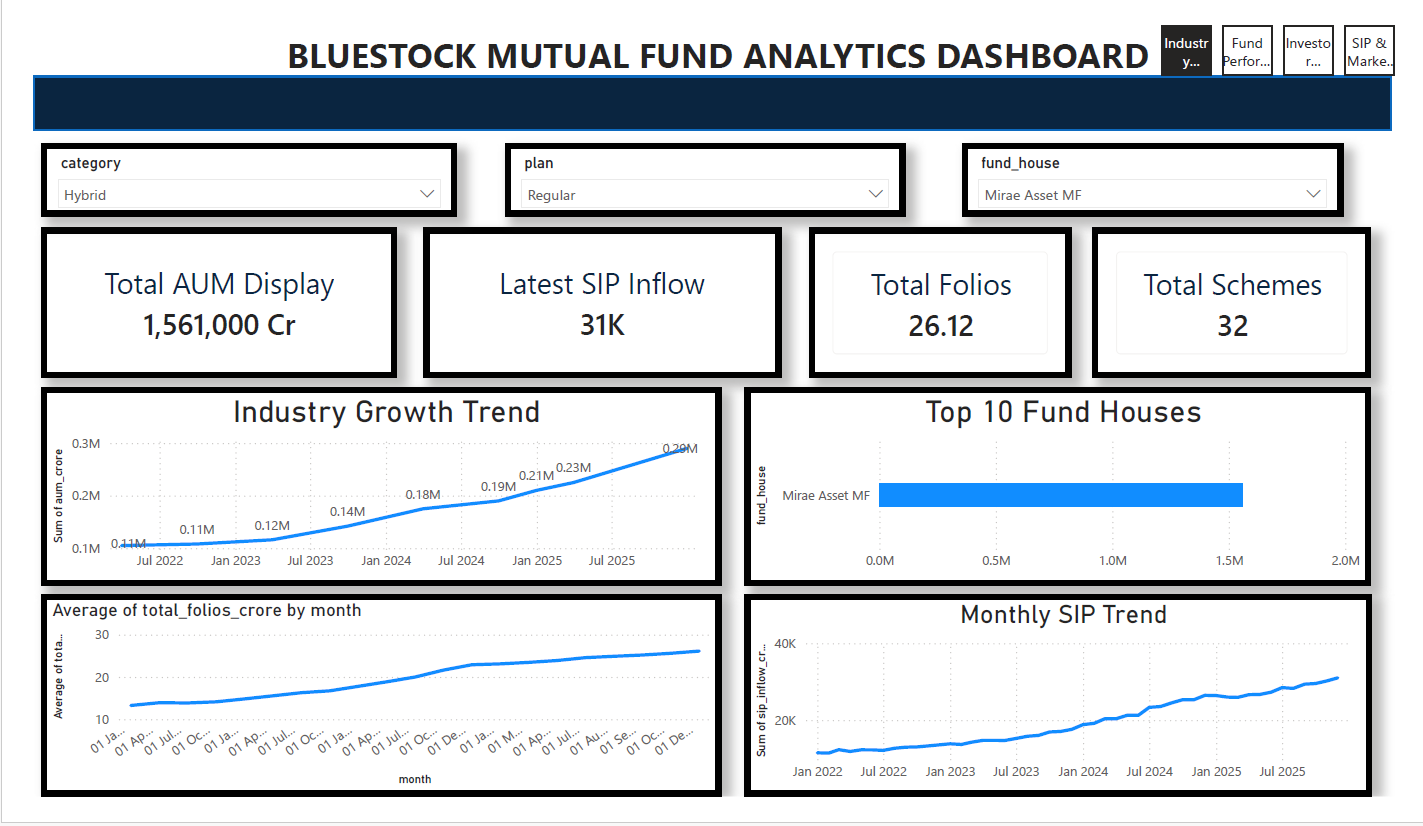

This screenshot's page, from the dashboard's own definition file:
{"tool":"powerbi","page":{"name":"Industry Overview","canvas":[1280,720],"ordinal":0},"visuals":[{"type":"textbox","box":[10,0,1270,72],"z":0},{"type":"shape","box":[4.7,46.5,1269.8,51.2],"z":1000},{"type":"cardVisual","fields":{"Data":["03_aum_by_fund_house.Total AUM Display"]},"box":[12.5,188.8,332.5,140],"z":2000},{"type":"cardVisual","fields":{"Data":["03_aum_by_fund_house.Latest SIP Inflow"]},"box":[370,188.8,333.8,140],"z":3000},{"type":"cardVisual","fields":{"Data":["03_aum_by_fund_house.Total Folios"]},"box":[730,188.8,245,140],"z":4000},{"type":"cardVisual","fields":{"Data":["03_aum_by_fund_house.Total Schemes"]},"box":[995,188.8,260,140],"z":5000},{"type":"lineChart","title":"Industry Growth Trend","fields":{"Y":["Sum(03_aum_by_fund_house.aum_crore)"],"Category":["03_aum_by_fund_house.date.Variation.Date Hierarchy.Year","03_aum_by_fund_house.date.Variation.Date Hierarchy.Quarter","03_aum_by_fund_house.date.Variation.Date Hierarchy.Month","03_aum_by_fund_house.date.Variation.Date Hierarchy.Day"]},"box":[12.5,337.5,635,185],"z":6000},{"type":"clusteredBarChart","title":"Top 10 Fund Houses","fields":{"Category":["03_aum_by_fund_house.fund_house"],"Y":["Sum(03_aum_by_fund_house.aum_crore)"]},"box":[670,337.5,585,185],"z":7000},{"type":"lineChart","title":"Monthly SIP Trend","fields":{"Y":["Sum(04_monthly_sip_inflows.sip_inflow_crore)"],"Category":["04_monthly_sip_inflows.month"]},"box":[670,531.2,586.2,188.8],"z":8000},{"type":"lineChart","fields":{"Y":["Avg(06_industry_folio_count.total_folios_crore)"],"Category":["06_industry_folio_count.month"]},"box":[12.5,531.2,635,188.8],"z":9000},{"type":"slicer","fields":{"Values":["03_aum_by_fund_house.fund_house"]},"box":[872.5,110,356.2,67.5],"z":10000},{"type":"slicer","fields":{"Values":["fund_scorecard.plan"]},"box":[446.2,110,373.8,67.5],"z":11000},{"type":"slicer","fields":{"Values":["05_category_inflows.category"]},"box":[12.5,110,388.8,67.5],"z":12000},{"type":"pageNavigator","box":[1058.6,0,221.4,47.1],"z":12001}]}

Visuals, with their boxes in screenshot pixels (x1, y1, x2, y2):
textbox: x1=44, y1=26, x2=1387, y2=102
shape: x1=38, y1=75, x2=1381, y2=129
cardVisual - 03_aum_by_fund_house.Total AUM Display: x1=47, y1=226, x2=398, y2=374
cardVisual - 03_aum_by_fund_house.Latest SIP Inflow: x1=425, y1=226, x2=778, y2=374
cardVisual - 03_aum_by_fund_house.Total Folios: x1=805, y1=226, x2=1064, y2=374
cardVisual - 03_aum_by_fund_house.Total Schemes: x1=1086, y1=226, x2=1360, y2=374
"Industry Growth Trend" lineChart: x1=47, y1=383, x2=718, y2=578
"Top 10 Fund Houses" clusteredBarChart: x1=742, y1=383, x2=1360, y2=578
"Monthly SIP Trend" lineChart: x1=742, y1=588, x2=1362, y2=787
lineChart - Avg(06_industry_folio_count.total_folios_crore) x 06_industry_folio_count.month: x1=47, y1=588, x2=718, y2=787
slicer - 03_aum_by_fund_house.fund_house: x1=956, y1=142, x2=1333, y2=214
slicer - fund_scorecard.plan: x1=505, y1=142, x2=900, y2=214
slicer - 05_category_inflows.category: x1=47, y1=142, x2=458, y2=214
pageNavigator: x1=1153, y1=26, x2=1387, y2=76
